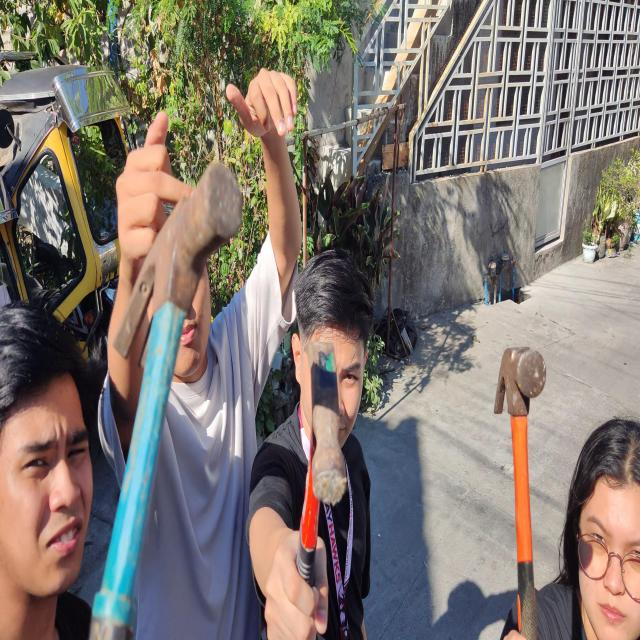hammer: (88, 163, 242, 640), (493, 345, 546, 640), (295, 340, 347, 587)
